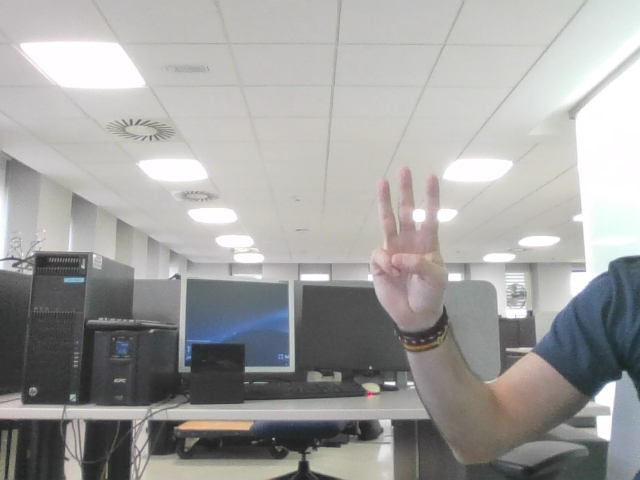3Dedos: (382, 179, 436, 296)
